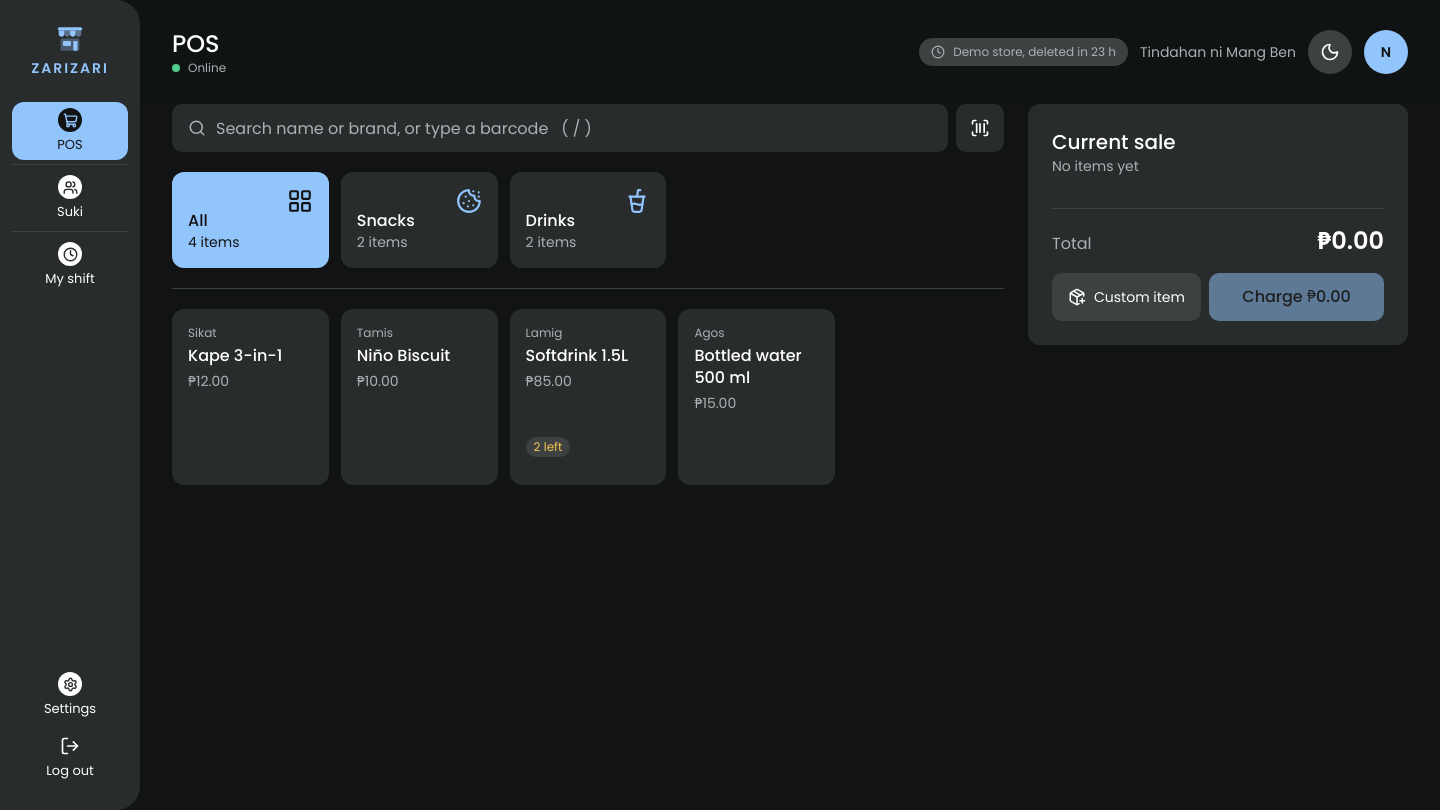
Test: POS screen (spec 10) › changes the selected line with + and −
Click the button named "Add Kape 3-in-1" at (250, 369), box x1=184 y1=321 x2=317 y2=417
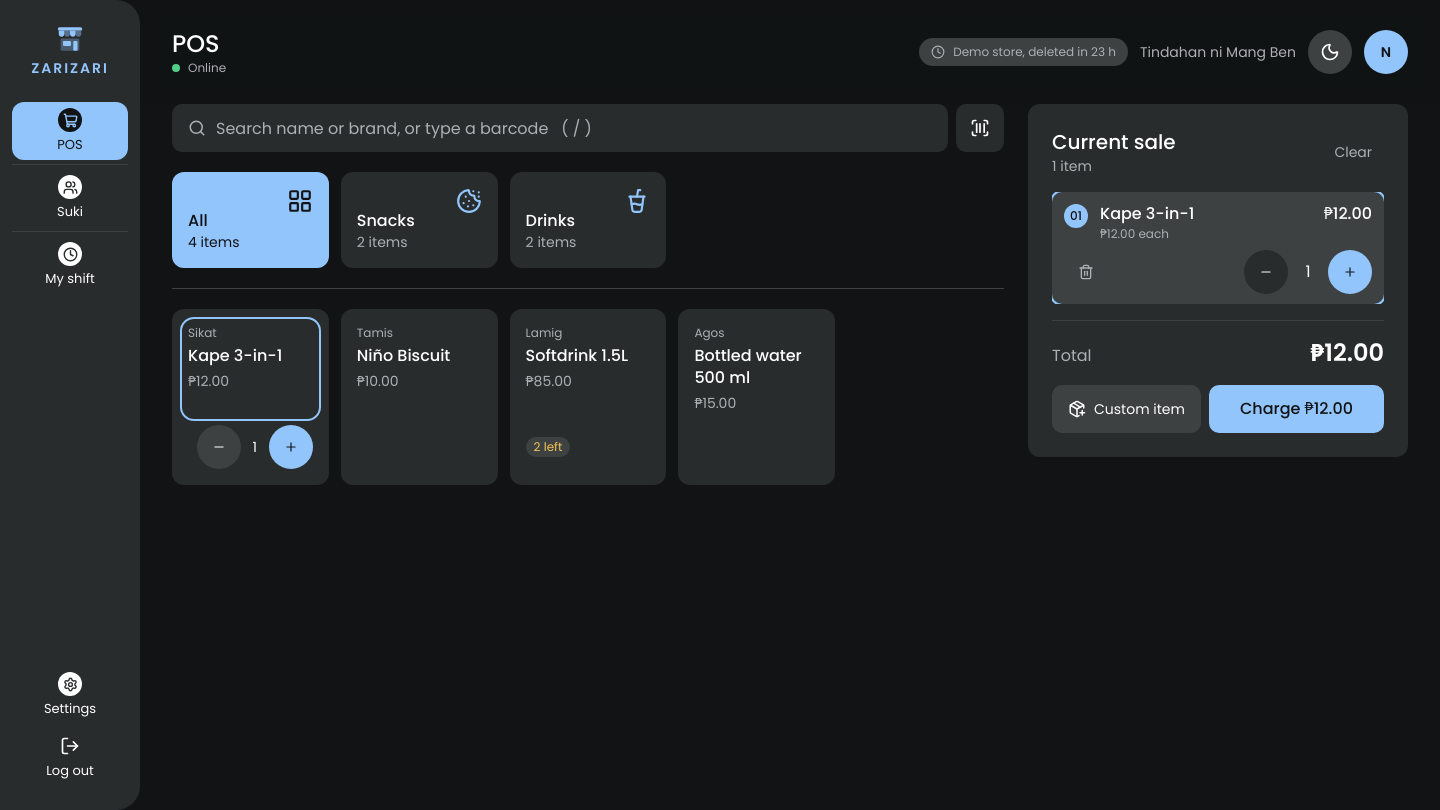
Type keys "+"
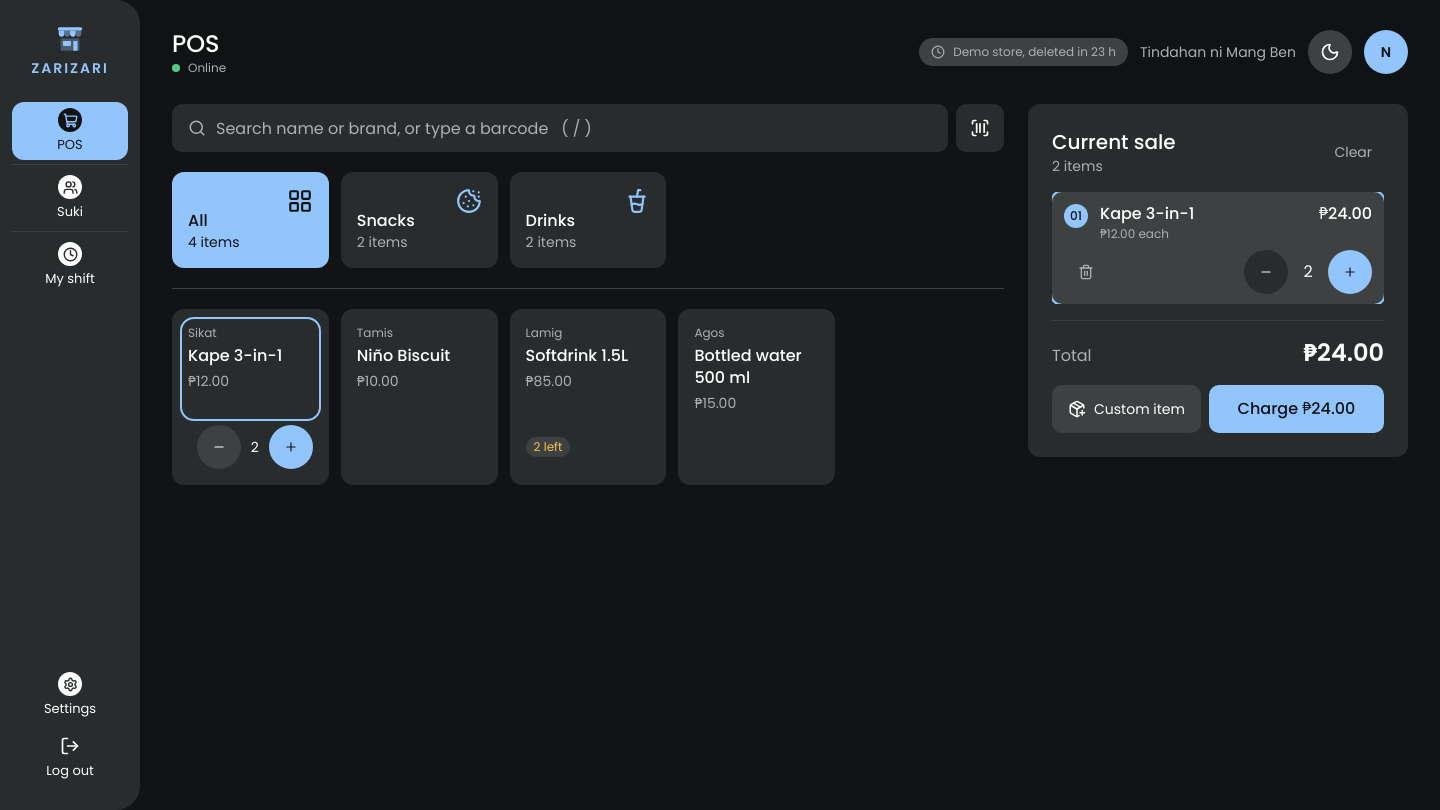
Check: the text named "Quantity" reads "2", box x1=1303 y1=260 x2=1313 y2=283
Type keys "-"
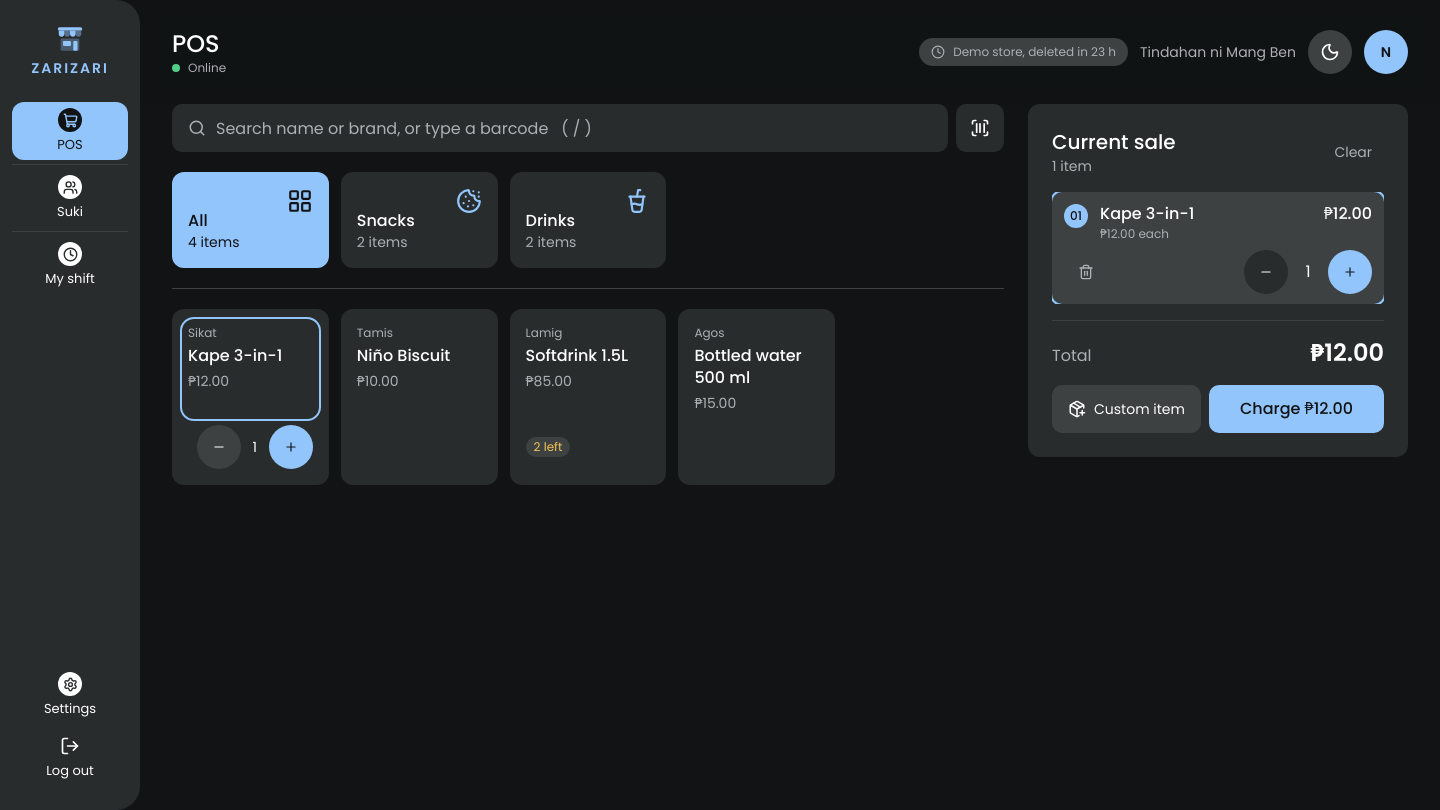
Type keys "−"
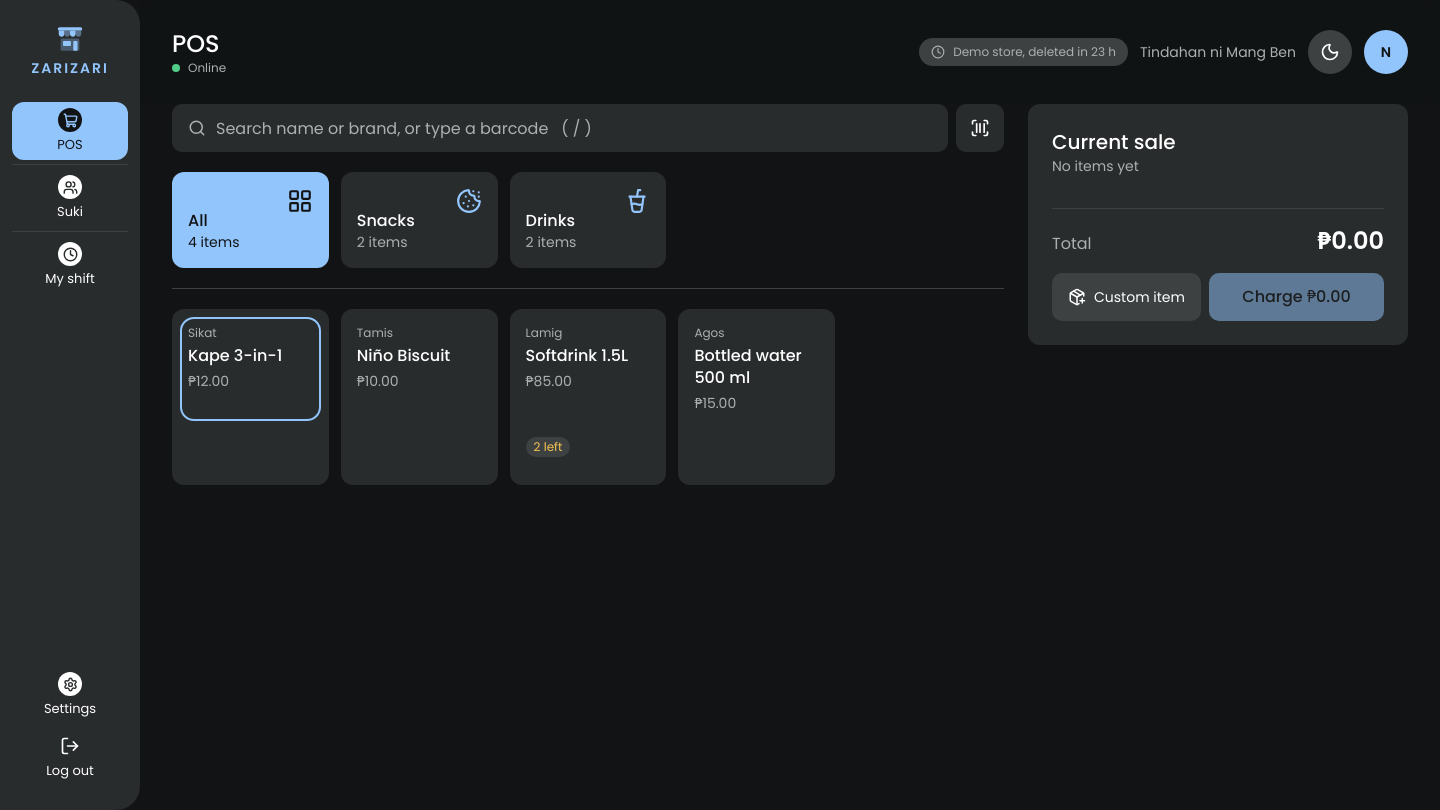
Check: no the list item "01 Kape 3-in-1 ₱12.00 each ₱12.00 1" are shown
